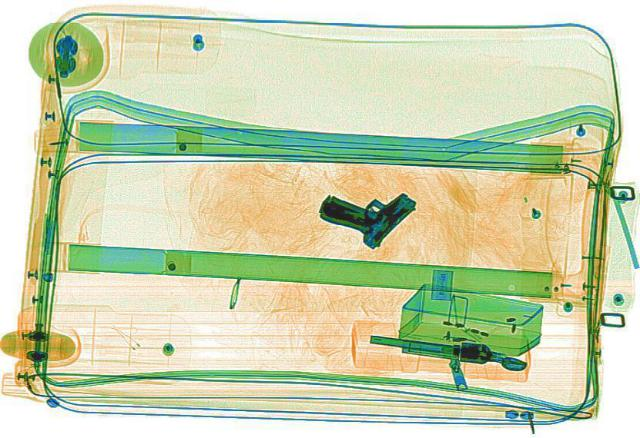Gun: (303, 170, 429, 248), (363, 329, 531, 369)
